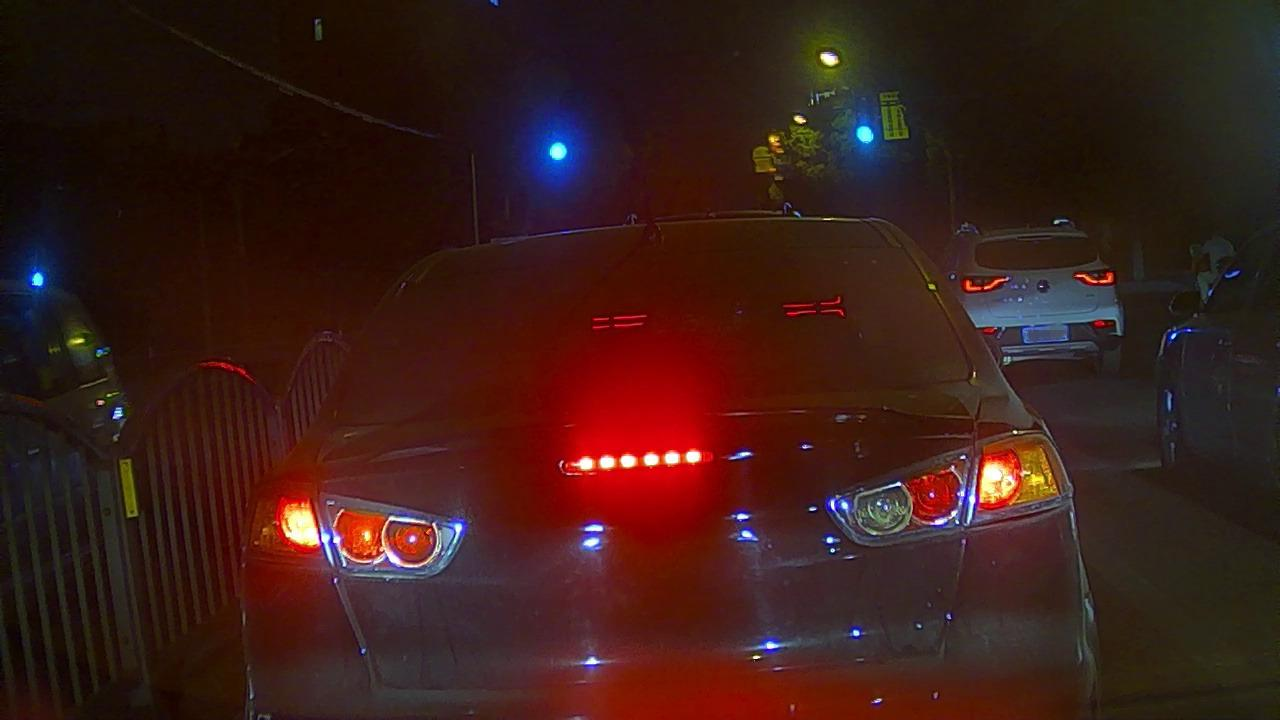traffic_light: (538, 134, 577, 166), (849, 120, 879, 150)
